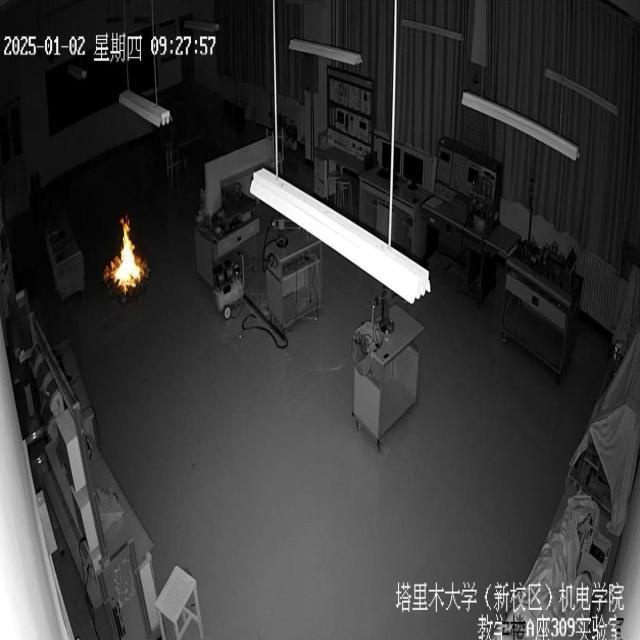smoke: (104, 210, 150, 298)
